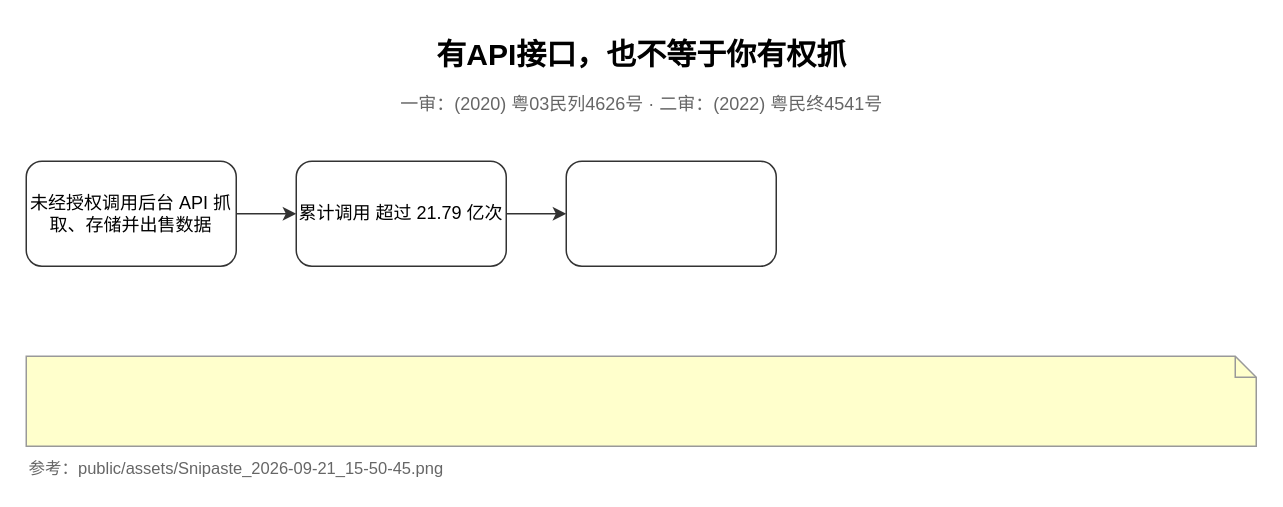
Some shapes in this 1283 by 507 pixel diagram are drawn without their labels. Here are the shapes that lost their labels. From the top down, the centre of each, then its label:
[670,213]: 裁判结果 构成不正当竞争 | 判赔 2000 万元
[640,400]: 接口存在 ≠ 数据授权
